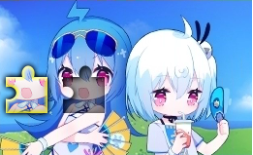gap: (63, 66, 105, 112)
